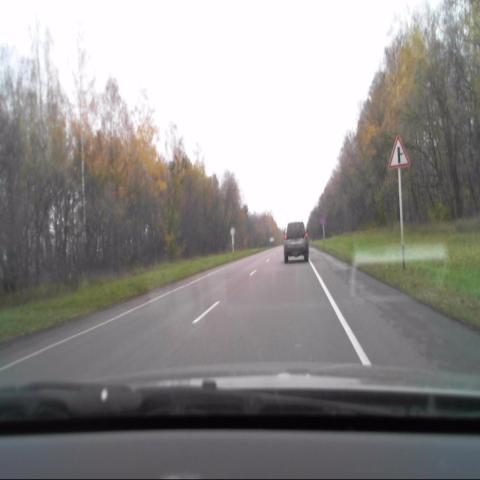2_3_2: (388, 134, 409, 168)
